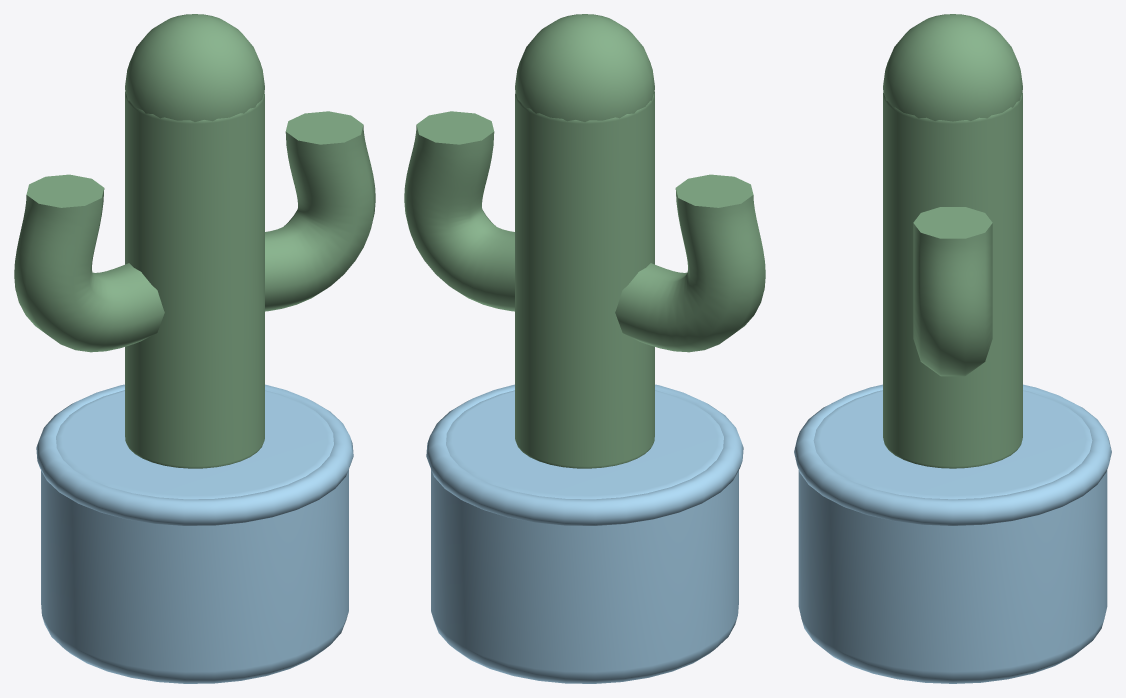
The model's file is plantCactusA.glb.
3 views of the same model, side by side, from view 1: azimuth 30°, elevation 25°; view 2: azimuth 150°, elevation 25°; view 3: azimuth 270°, elevation 25° (orthographic).
Visible parts, largest first — view 1: Ceramic planter, Cactus, Cactus arm, Cactus arm.001, Cactus top, Pot rim; view 2: Ceramic planter, Cactus, Cactus arm, Cactus arm.001, Cactus top, Pot rim; view 3: Ceramic planter, Cactus, Cactus arm.001, Cactus top, Pot rim.
Boxes of the visible parts, x1=… form: Ceramic planter: x1=41, y1=390, x2=348, y2=683; Cactus: x1=125, y1=92, x2=264, y2=468; Cactus arm: x1=14, y1=174, x2=164, y2=352; Cactus arm.001: x1=265, y1=111, x2=375, y2=311; Cactus top: x1=125, y1=14, x2=264, y2=121; Pot rim: x1=36, y1=384, x2=353, y2=525; Ceramic planter: x1=431, y1=390, x2=738, y2=683; Cactus: x1=515, y1=92, x2=654, y2=468; Cactus arm: x1=615, y1=174, x2=765, y2=352; Cactus arm.001: x1=404, y1=111, x2=514, y2=311; Cactus top: x1=515, y1=14, x2=654, y2=121; Pot rim: x1=426, y1=384, x2=743, y2=525; Ceramic planter: x1=798, y1=390, x2=1107, y2=683; Cactus: x1=883, y1=92, x2=1022, y2=468; Cactus arm.001: x1=913, y1=207, x2=992, y2=376; Cactus top: x1=883, y1=14, x2=1022, y2=121; Pot rim: x1=794, y1=384, x2=1111, y2=525.
Bounding box in the file's own units: 0.8624 × 1.43 × 0.68.
